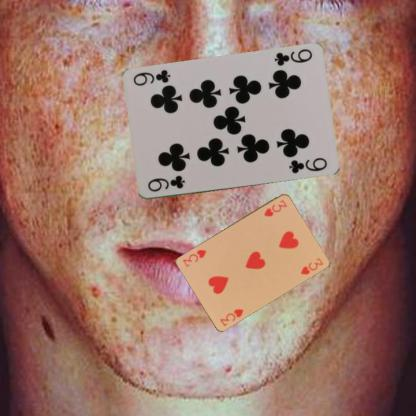3h: (261, 197, 288, 218), (218, 306, 245, 327)
9c: (271, 47, 313, 68), (144, 173, 186, 193)
